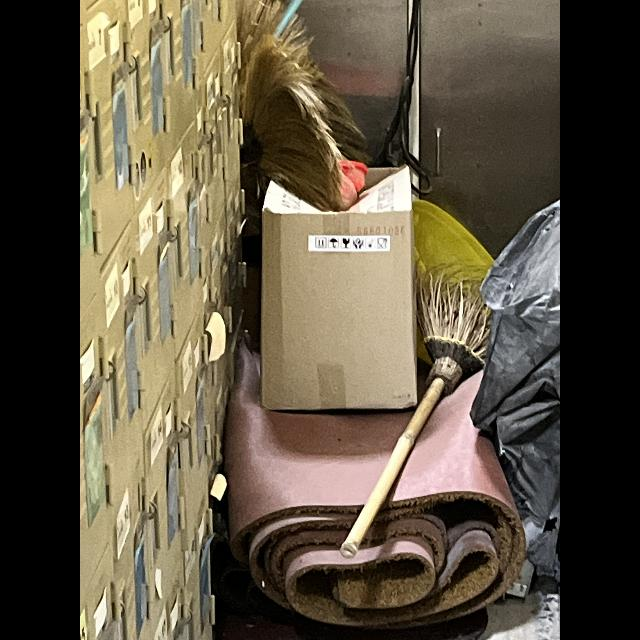cardboard_box: (250, 156, 422, 416)
